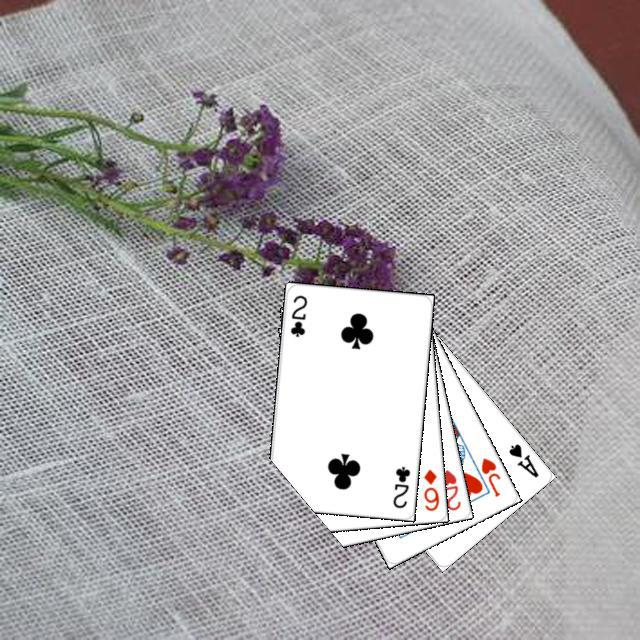2c: (388, 461, 412, 510), (285, 290, 309, 339)
2h: (436, 465, 462, 512)
6d: (419, 464, 441, 513)
As: (503, 439, 540, 480)
Jh: (476, 453, 502, 498)
